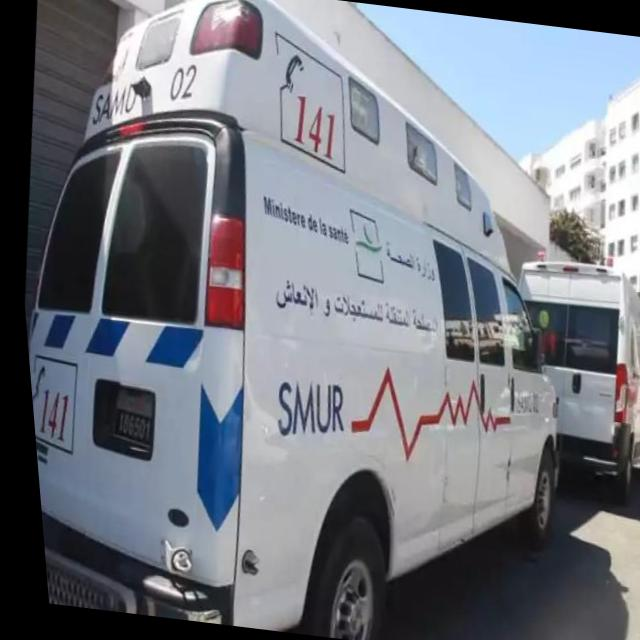ambulance: (0, 0, 624, 640)
